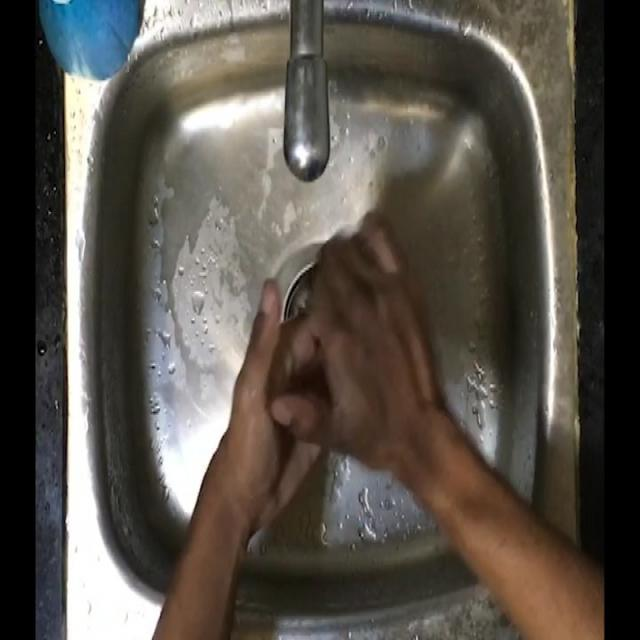step_5: (224, 205, 436, 528)
